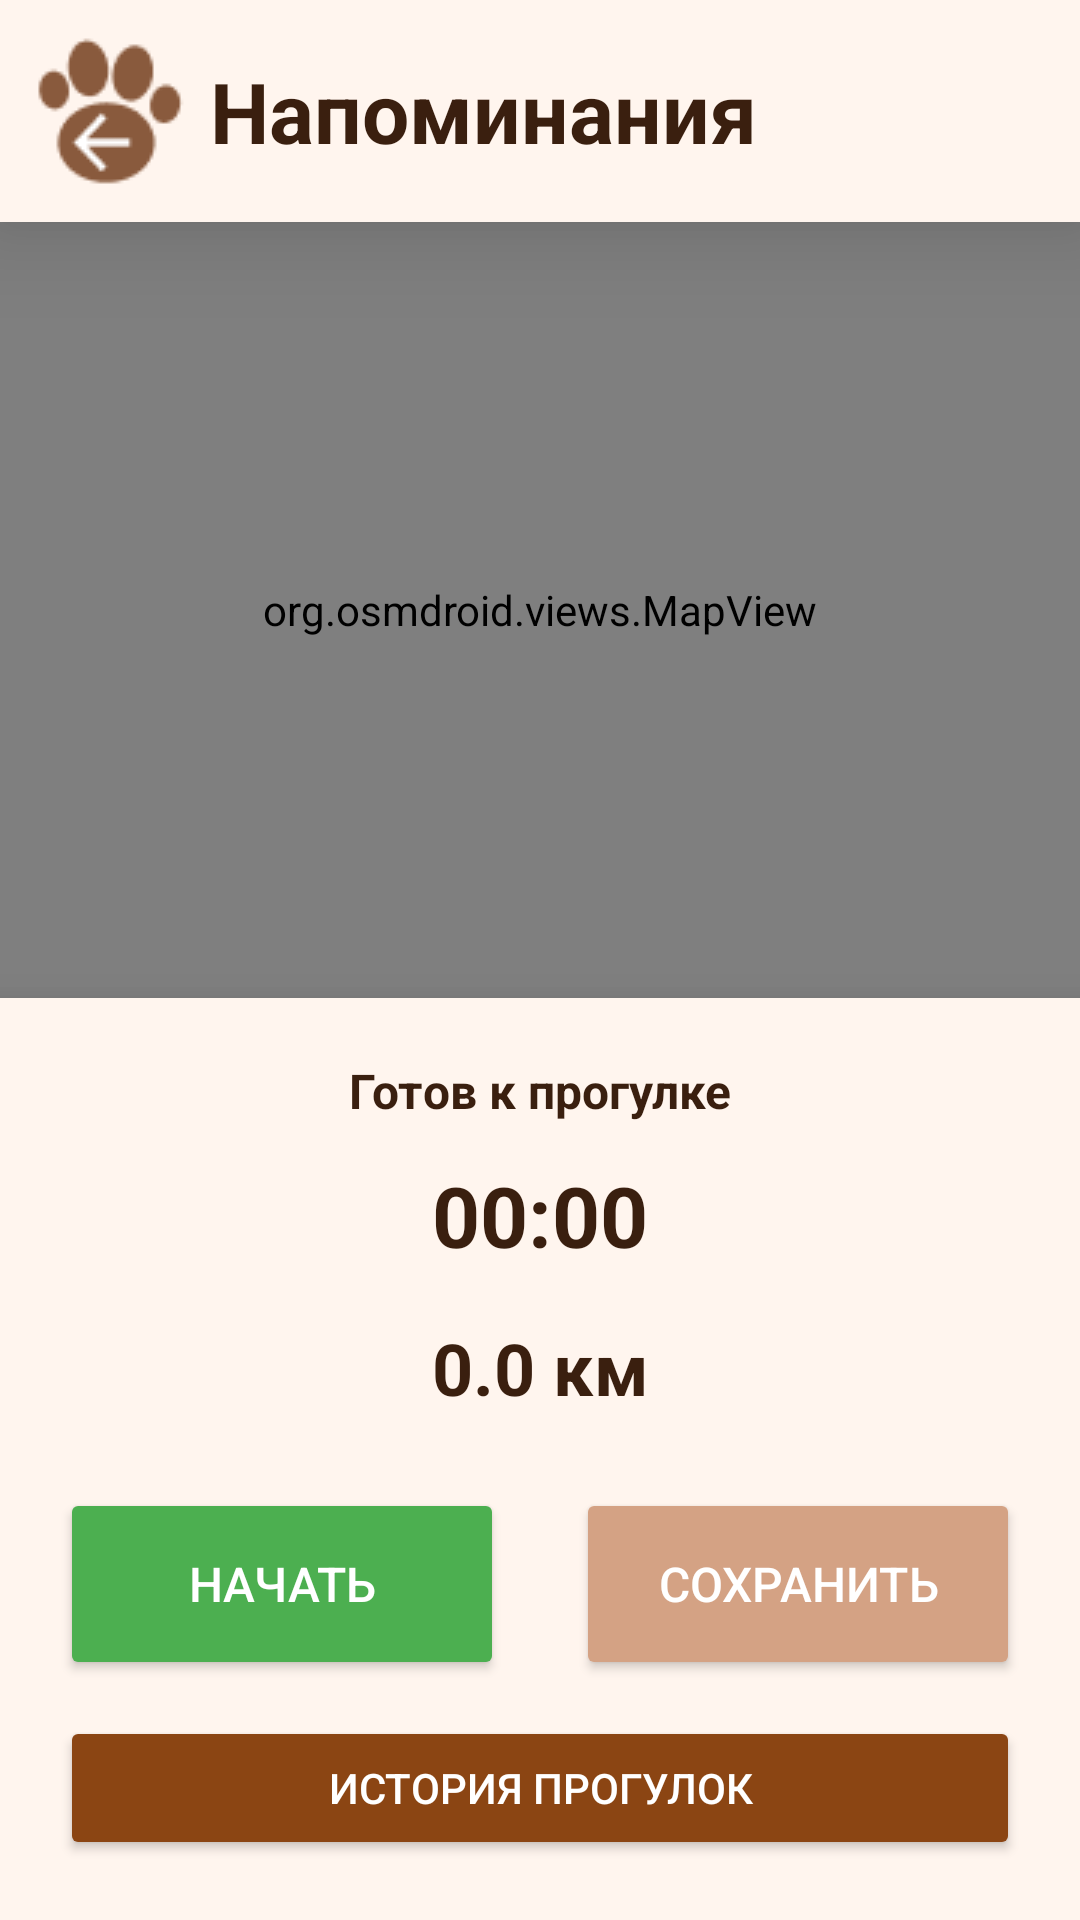

Named icons in this screenshot (1080x1920) and their bounding boxes, {"left": x1, "top": y1, "right": x2, "bottom": y2}:
back: {"left": 38, "top": 39, "right": 181, "bottom": 184}
